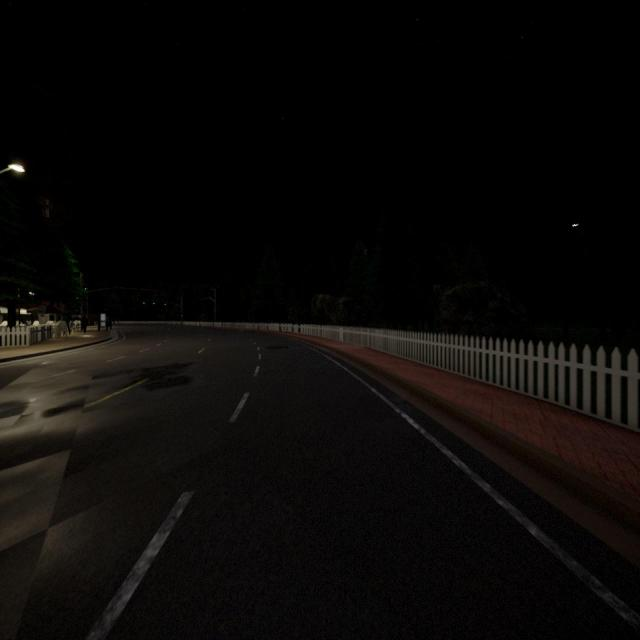traffic_light: (181, 313, 183, 317), (153, 302, 155, 305), (164, 303, 166, 306), (143, 302, 145, 304)
